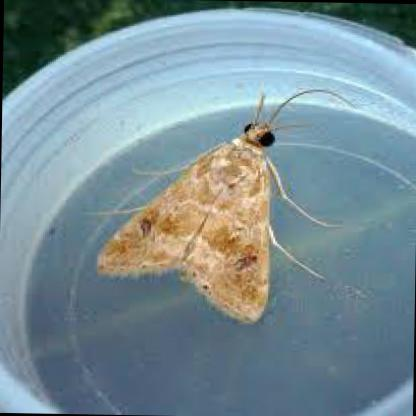Hellula undalis: (69, 76, 376, 329)
